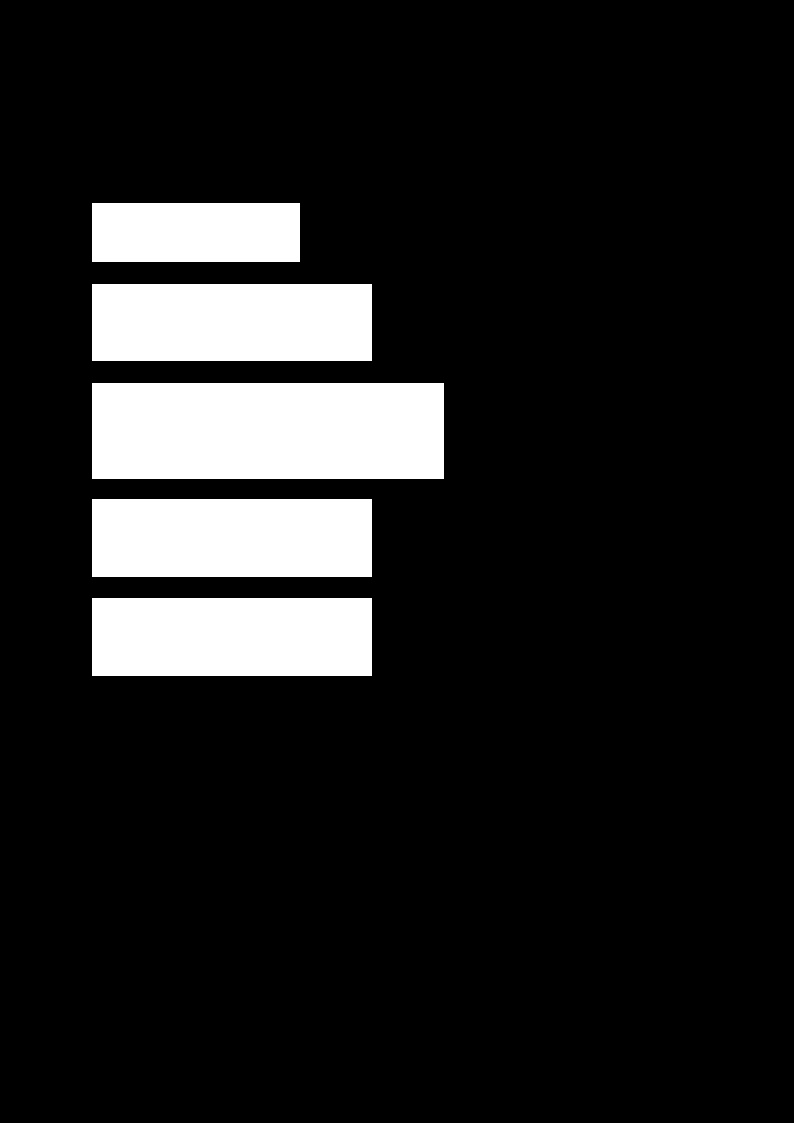table: (92, 383, 443, 478), (92, 499, 371, 576), (92, 598, 371, 675), (92, 284, 371, 360), (92, 203, 299, 261)
